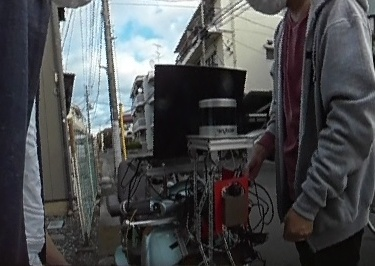person: (241, 0, 375, 266)
